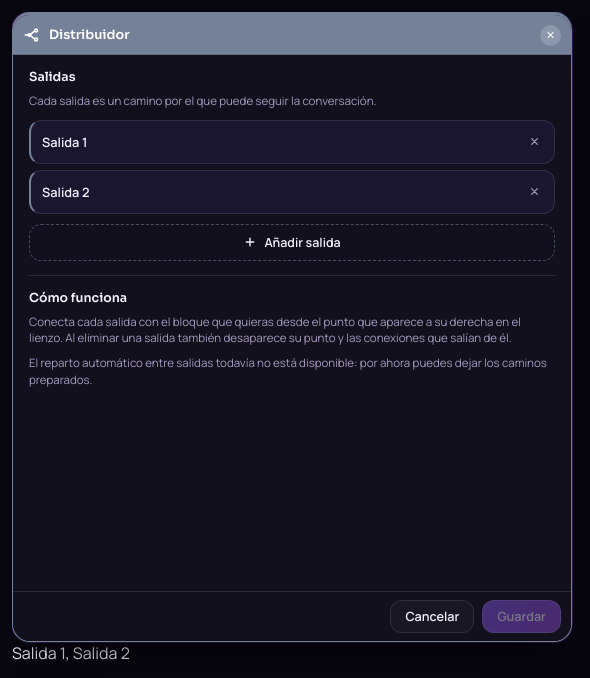
guardar y descartar, por el camino del marco compartido › una eliminación también se confirma con Guardar
Click the button named "Eliminar Salida 1" at (534, 142), box [522,130,546,154]
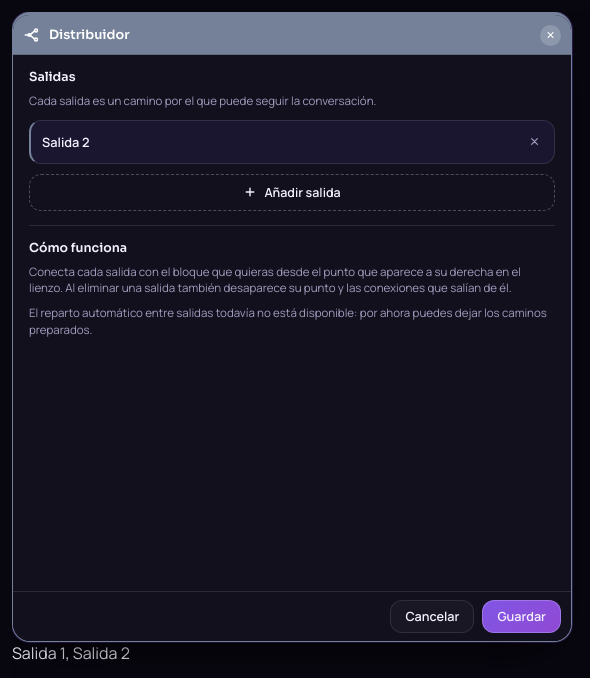
Click the button "Guardar" at (522, 616), box [482,600,561,633]
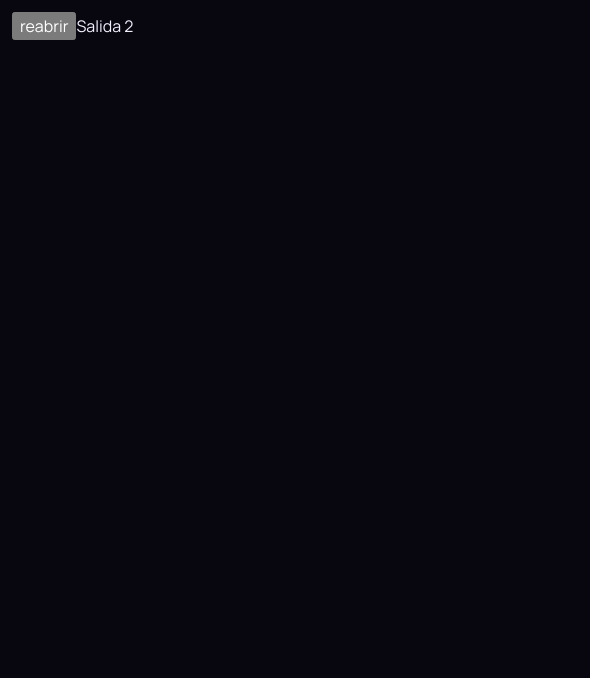
Result: the text with test id "guardado" reads "Salida 2" at [76,15,133,37]
